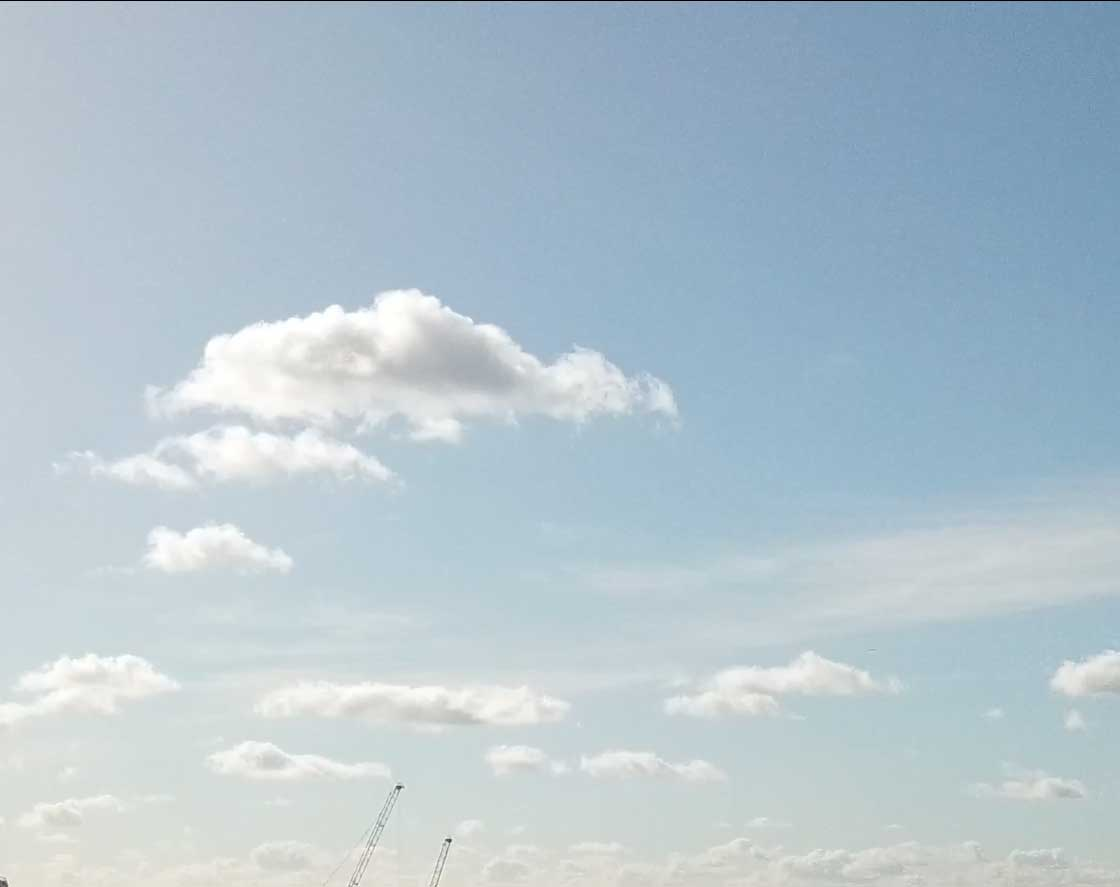cloud: (145, 280, 691, 445), (651, 643, 977, 733), (83, 415, 413, 496), (246, 667, 599, 739), (126, 503, 316, 591), (7, 650, 196, 730), (195, 739, 410, 796)
